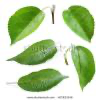Apple leaf: (4, 2, 47, 47), (58, 5, 99, 43), (69, 44, 97, 93), (10, 39, 59, 67), (16, 69, 71, 93)
